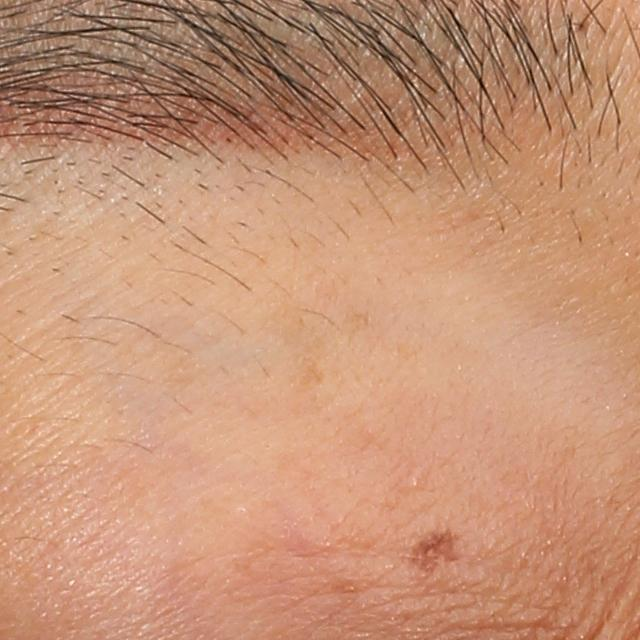comedo: (407, 473, 425, 493)
melasma: (408, 522, 461, 581)
